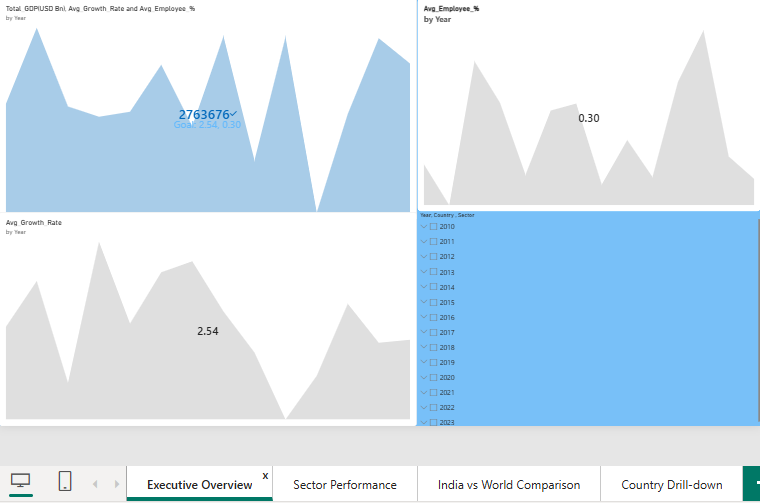

This screenshot's page, from the dashboard's own definition file:
{"tool":"powerbi","page":{"name":"Executive Overview","canvas":[1920,1080],"ordinal":0},"visuals":[{"type":"kpi","fields":{"Goal":["Data_project---Economic Sector Analysis of India and Global Economies using Powe.Avg_Growth_Rate","Data_project---Economic Sector Analysis of India and Global Economies using Powe.Avg_Employee_%"],"Indicator":["Data_project---Economic Sector Analysis of India and Global Economies using Powe.Total_GDP(USD Bn)"],"TrendLine":["Data_project---Economic Sector Analysis of India and Global Economies using Powe.Year"]},"box":[0,0,1052.5,557.5],"z":0},{"type":"slicer","fields":{"Values":["Data_project---Economic Sector Analysis of India and Global Economies using Powe.Year","Data_project---Economic Sector Analysis of India and Global Economies using Powe.Country ","Data_project---Economic Sector Analysis of India and Global Economies using Powe.Sector "]},"box":[1052.5,540,867.5,540],"z":1},{"type":"kpi","fields":{"Indicator":["Data_project---Economic Sector Analysis of India and Global Economies using Powe.Avg_Growth_Rate"],"TrendLine":["Data_project---Economic Sector Analysis of India and Global Economies using Powe.Year"]},"box":[0,540,1052.5,540],"z":2},{"type":"kpi","fields":{"Indicator":["Data_project---Economic Sector Analysis of India and Global Economies using Powe.Avg_Employee_%"],"TrendLine":["Data_project---Economic Sector Analysis of India and Global Economies using Powe.Year"]},"box":[1053.2,0,866.8,539.2],"z":3}]}

Visuals, with their boxes on the page's 1920x1080 design canvas (x1, y1, x2, y2). These are canvas units, not pixel positions in the 760x503 screenshot, which may show the page scaled, cropped or inside an application window:
kpi - Data_project---Economic Sector Analysis of India and Global Economies using Powe.Avg_Growth_Rate x Data_project---Economic Sector Analysis of India and Global Economies using Powe.Avg_Employee_%: x1=0, y1=0, x2=1052, y2=558
slicer - Data_project---Economic Sector Analysis of India and Global Economies using Powe.Year x Data_project---Economic Sector Analysis of India and Global Economies using Powe.Country : x1=1052, y1=540, x2=1920, y2=1080
kpi - Data_project---Economic Sector Analysis of India and Global Economies using Powe.Avg_Growth_Rate x Data_project---Economic Sector Analysis of India and Global Economies using Powe.Year: x1=0, y1=540, x2=1052, y2=1080
kpi - Data_project---Economic Sector Analysis of India and Global Economies using Powe.Avg_Employee_% x Data_project---Economic Sector Analysis of India and Global Economies using Powe.Year: x1=1053, y1=0, x2=1920, y2=539
